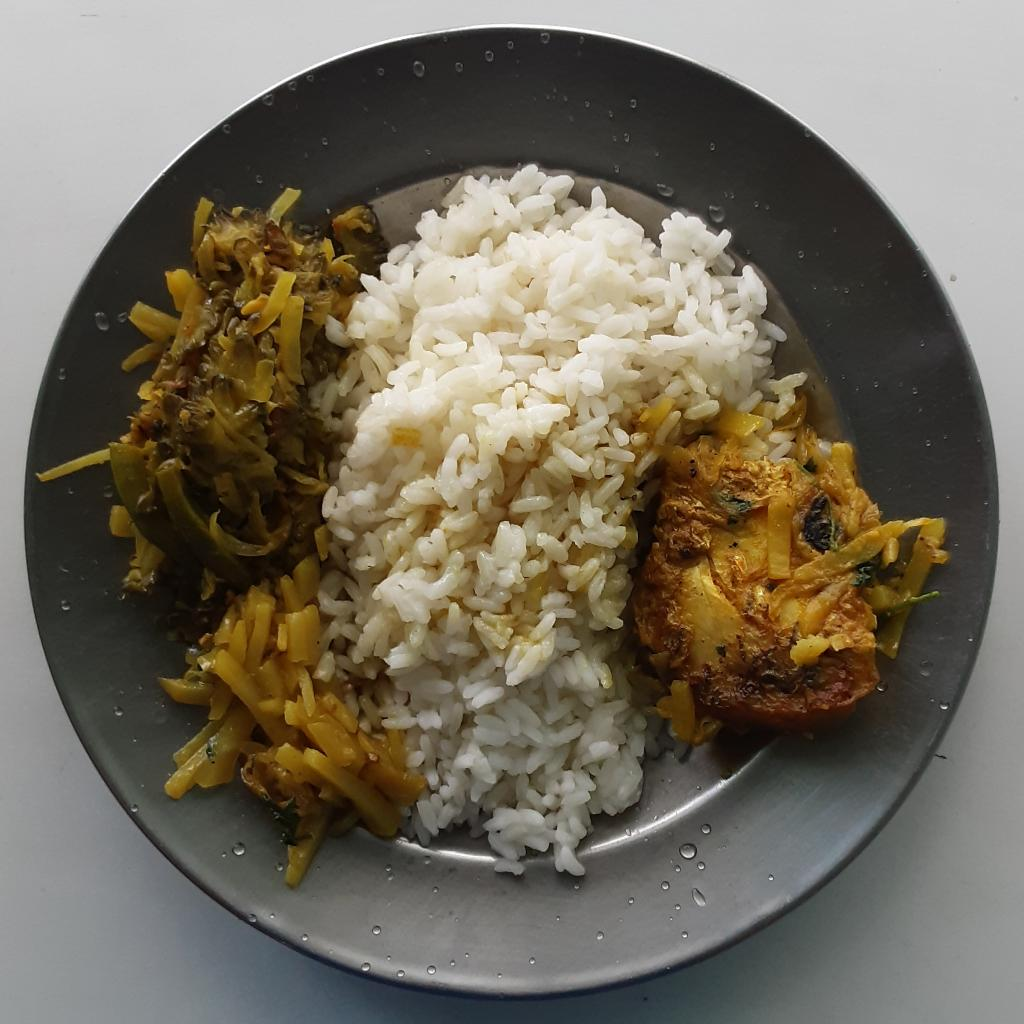fish: (637, 442, 949, 748)
korola-vaji: (37, 181, 383, 600)
potato: (155, 555, 426, 889)
rice: (307, 157, 804, 878)
